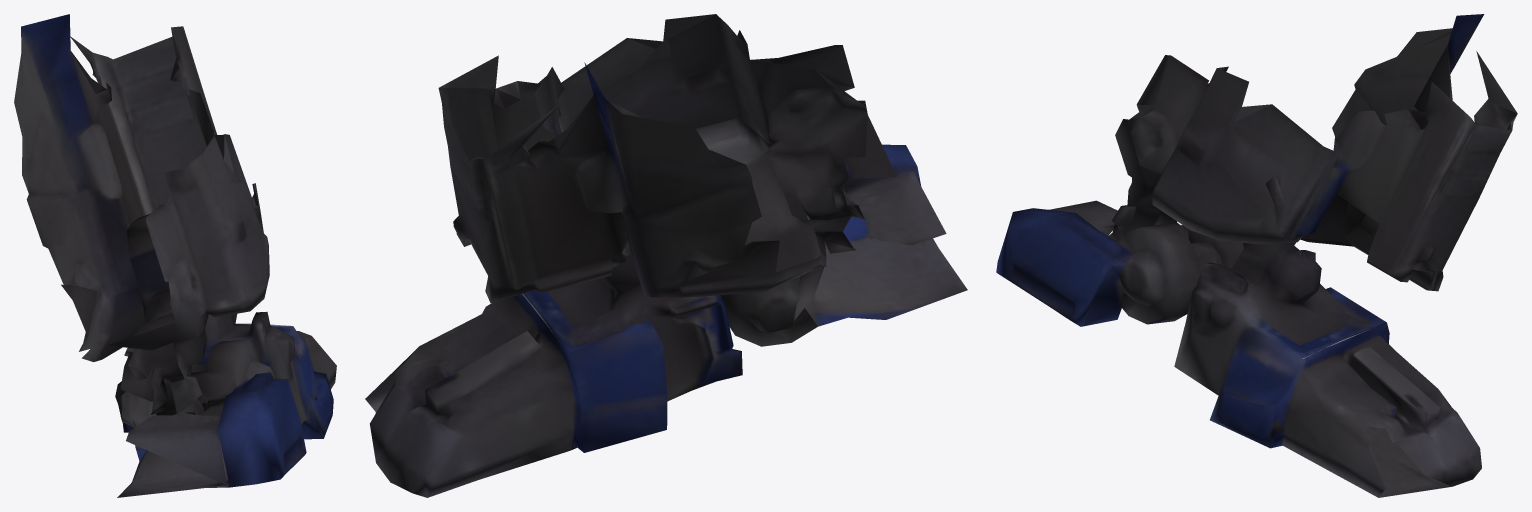
File: blue_leg_right_lower.glb
3 views of the same model, side by side, from view 1: azimuth 30°, elevation 25°; view 2: azimuth 150°, elevation 25°; view 3: azimuth 270°, elevation 25° (orthographic). The views are drawn at different scales.
Parts seen in each view (by area): view 1: blue_leg_right_lower; view 2: blue_leg_right_lower; view 3: blue_leg_right_lower.
Part boxes in pixels (x1,y1,x2,y2): blue_leg_right_lower: (14, 14, 336, 497); blue_leg_right_lower: (365, 14, 967, 497); blue_leg_right_lower: (996, 14, 1517, 497).
Size of the model in its own units: 1.31 by 1.36 by 1.65.
1 material, 1 textured.
